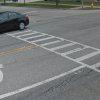Crosswalk: (20, 25, 92, 75)
